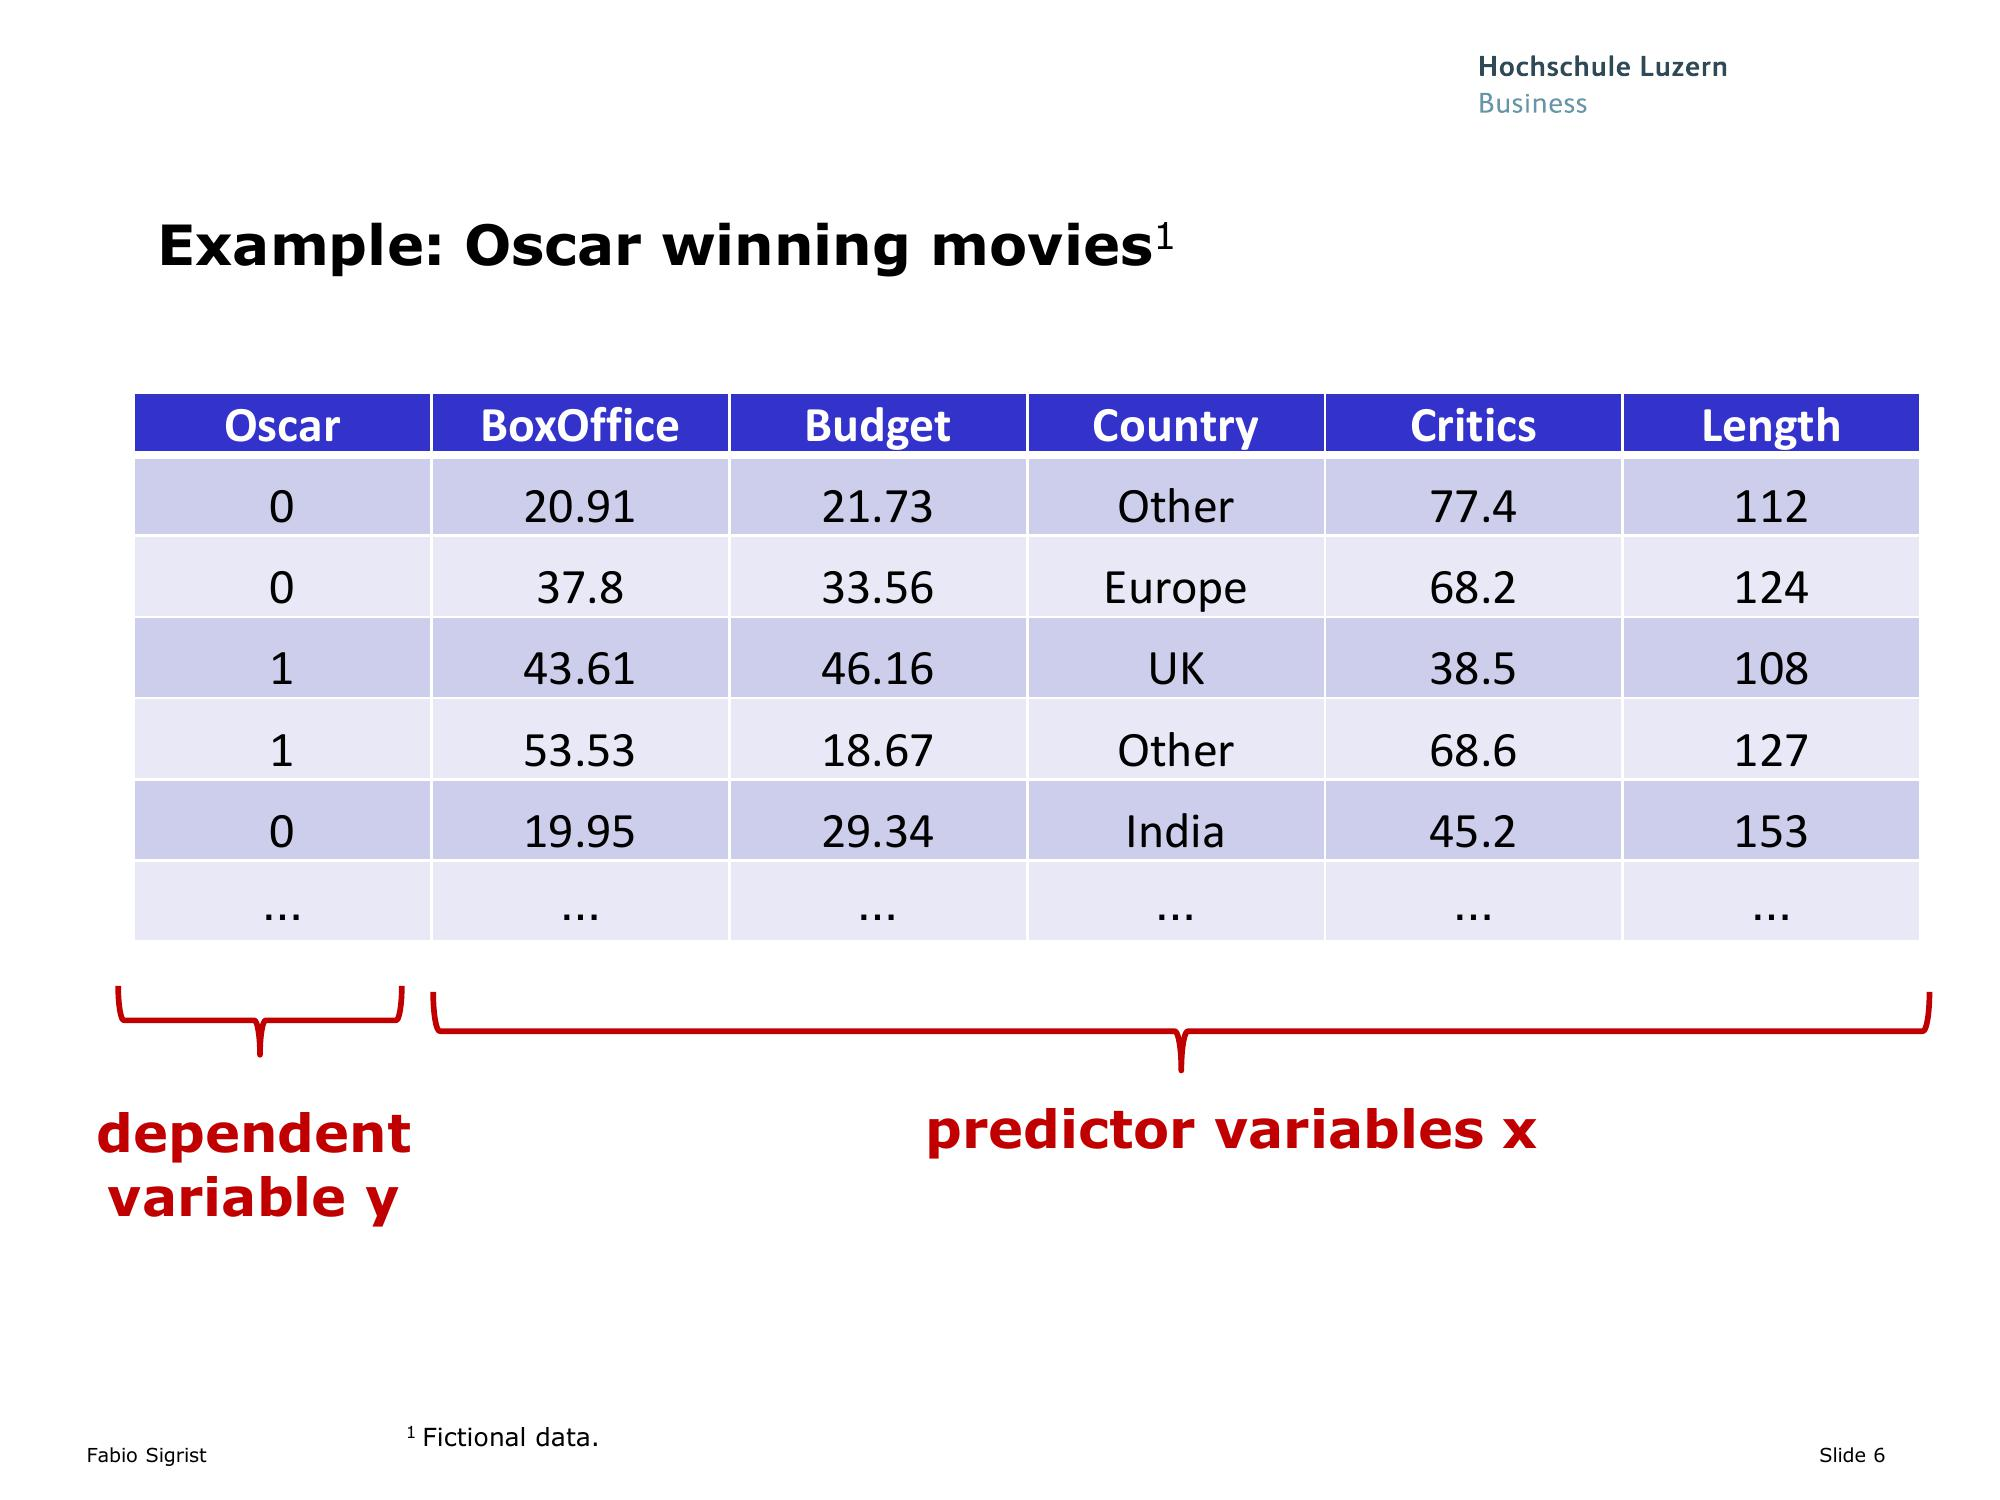Title: (120, 210, 1186, 299)
